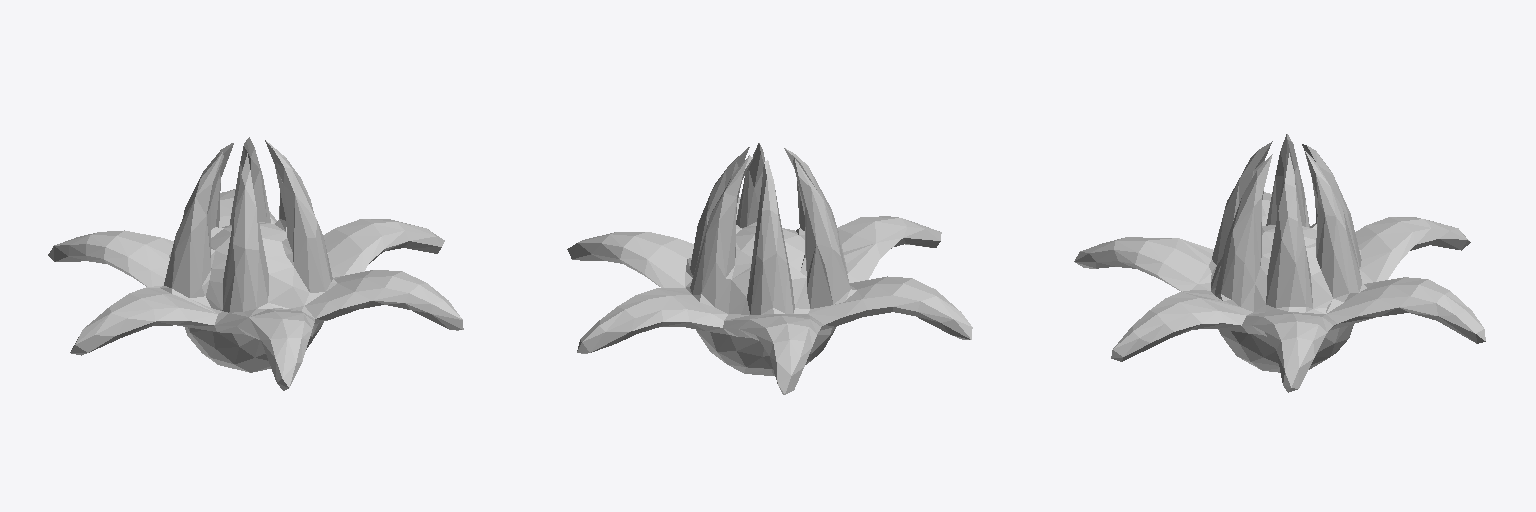
File: Plant02.obj
3 views of the same model, side by side, from view 1: azimuth 30°, elevation 25°; view 2: azimuth 150°, elevation 25°; view 3: azimuth 270°, elevation 25° (orthographic).
Parts seen in each view (by area): view 1: Plant02_Sphere; view 2: Plant02_Sphere; view 3: Plant02_Sphere.
Boxes of the visible parts, x1=… form: Plant02_Sphere: x1=48, y1=137, x2=463, y2=390; Plant02_Sphere: x1=567, y1=143, x2=972, y2=394; Plant02_Sphere: x1=1074, y1=134, x2=1485, y2=392.
Bounding box in the file's own units: 0.6053 × 0.3271 × 0.5536.